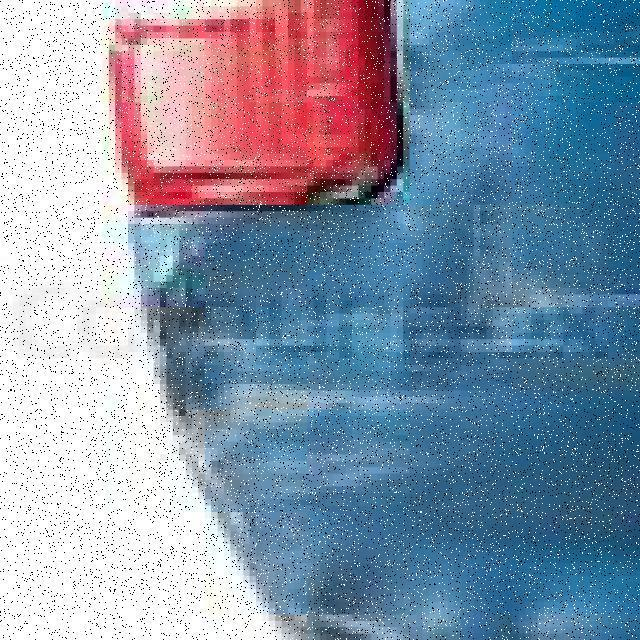rear-bumper-dent: (12, 0, 634, 634)
